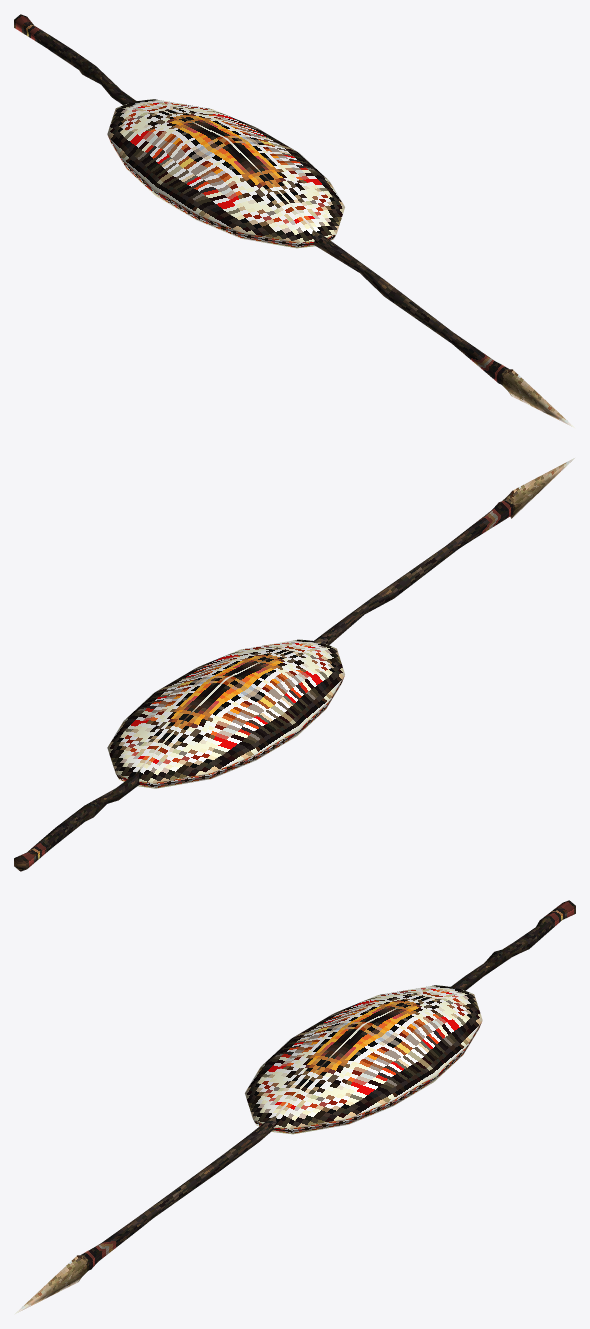
3 renders of one model, top to bottom at view 1: azimuth 30°, elevation 25°; view 2: azimuth 150°, elevation 25°; view 3: azimuth 330°, elevation 25°, orthographic.
Visible parts, largest first — view 1: part_1, part_0; view 2: part_1, part_0; view 3: part_1, part_0.
Part boxes in pixels (x1,y1,x2,y2): part_1: (107,99,344,248); part_0: (14,14,575,428); part_1: (107,639,344,788); part_0: (14,458,574,871); part_1: (245,985,482,1134); part_0: (14,900,575,1314).
Size of the model in its own units: 58.49 by 18.81 by 388.
1 material, 1 textured.
